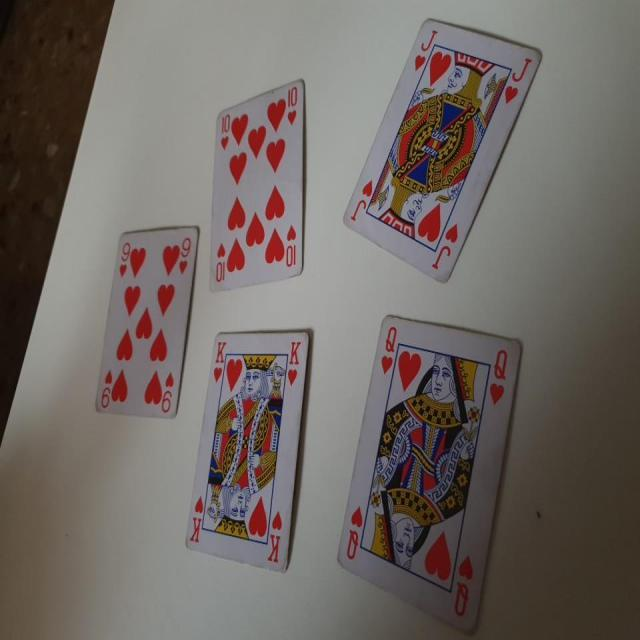10 of hearts: (202, 70, 311, 296)
9 of hearts: (88, 216, 200, 423)
jack of hearts: (335, 20, 550, 289)
king of hearts: (180, 328, 314, 582)
queen of hearts: (328, 298, 520, 622)
